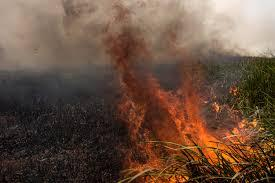fire: (111, 35, 261, 180)
yanwu: (1, 1, 246, 61)
